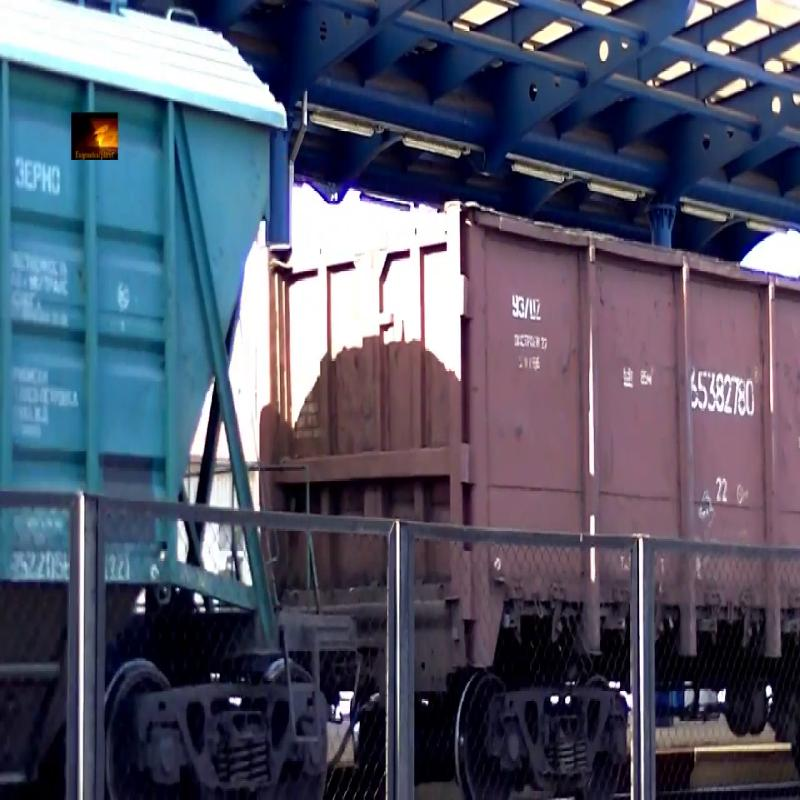train: (338, 47, 800, 775), (1, 14, 316, 778)
